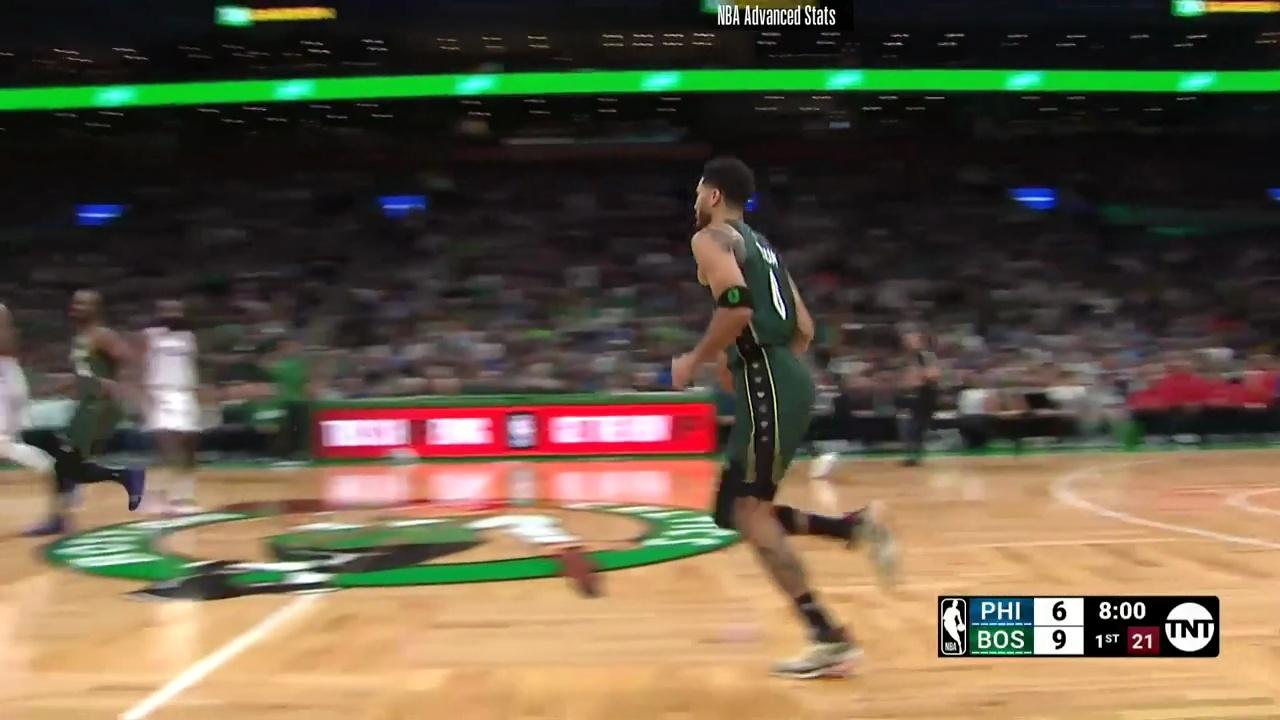Person: (655, 151, 856, 658), (34, 289, 148, 546), (136, 294, 212, 510)
Referee: (889, 327, 946, 466)
